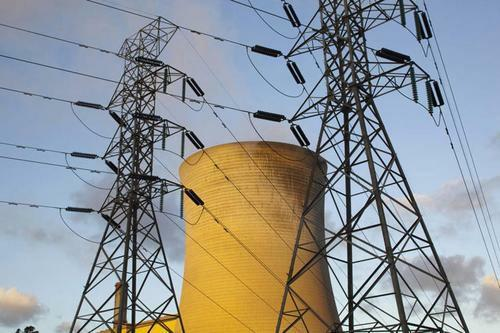power_tower: (254, 4, 500, 333), (77, 10, 210, 333)
